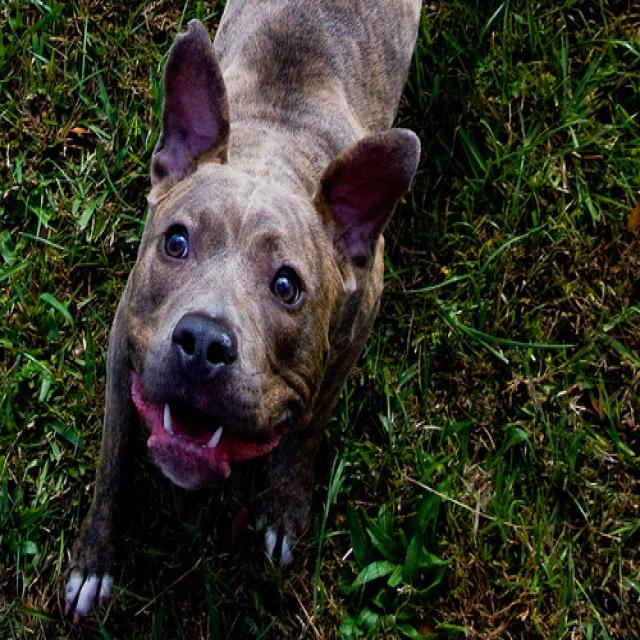dog-american_pit_bull_terrier: (54, 2, 433, 631)
